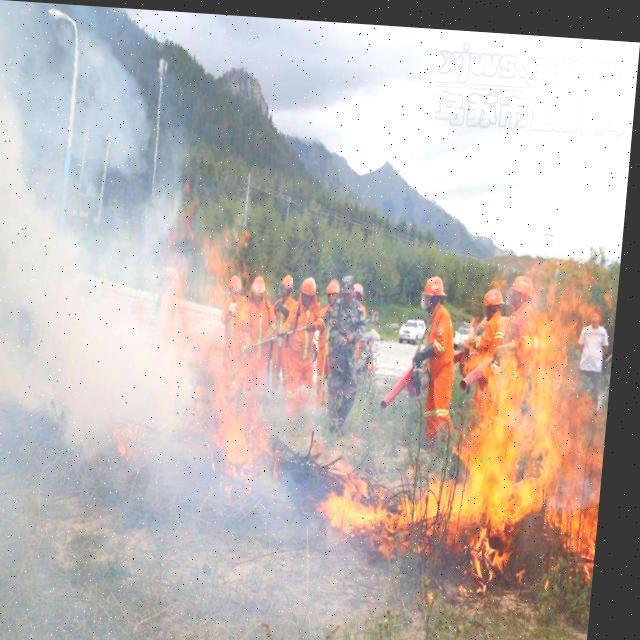Fire: (337, 253, 623, 598), (116, 194, 333, 517)
